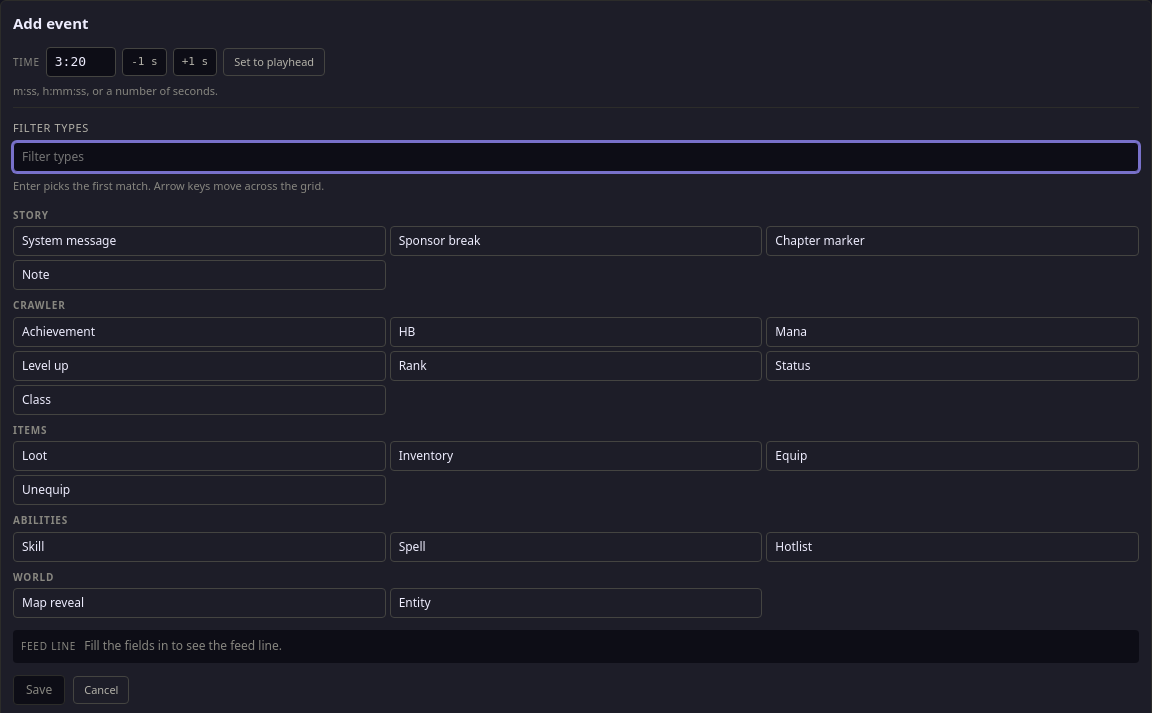
Test: EventForm - why Save is off › reveals every missing field when a save is attempted
Click the button "Loot": [35, 456] box [13,441,386,471]
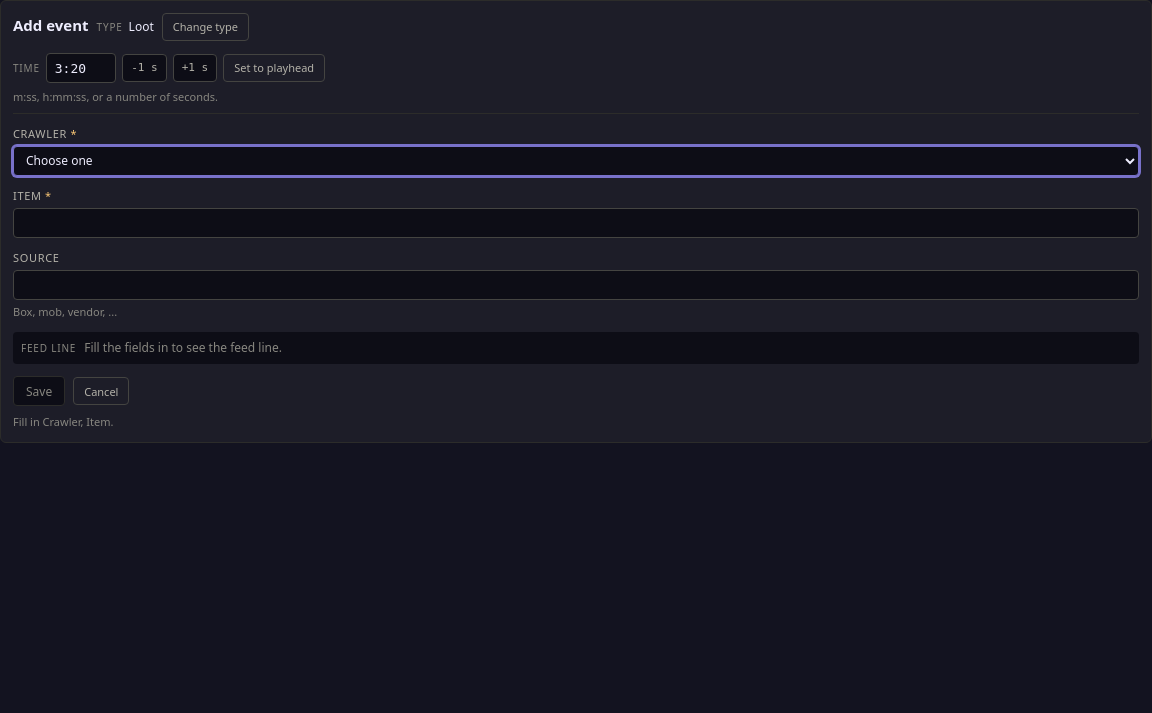
Press Enter in the form with test id "event-form"
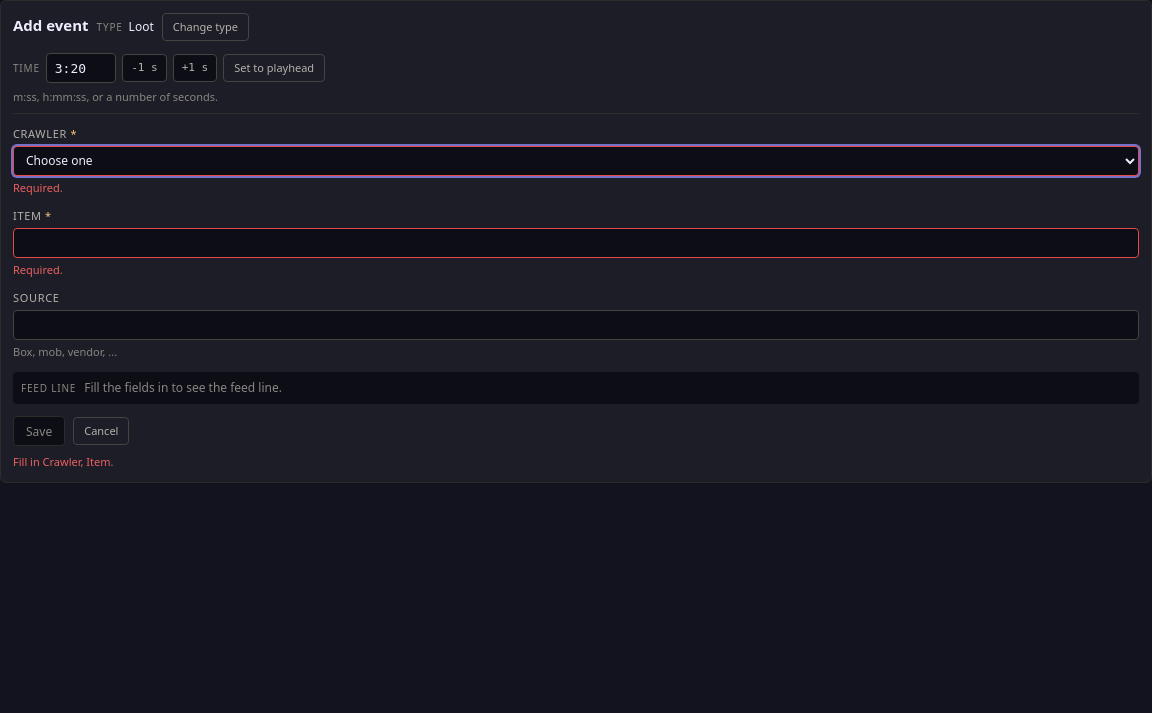
Now the text with test id "error-actor" reads "Required.", box [13,180,63,195]
Now the text with test id "error-item" reads "Required.", box [13,262,63,277]
